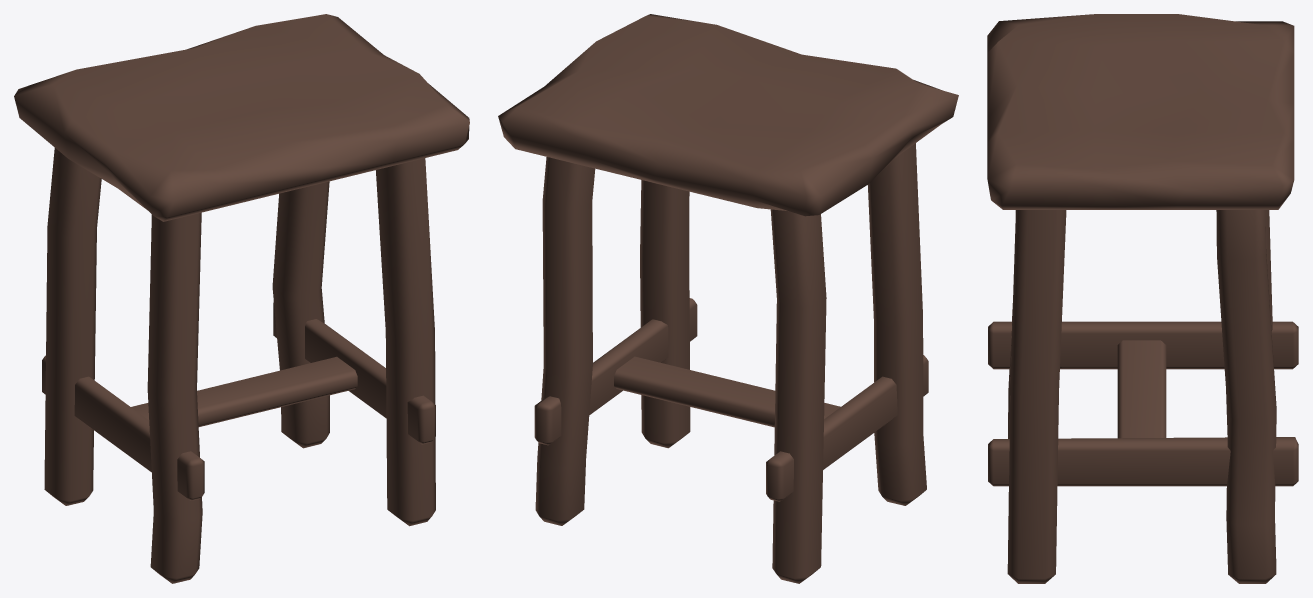
File: stool.fbx
3 views of the same model, side by side, from view 1: azimuth 30°, elevation 25°; view 2: azimuth 150°, elevation 25°; view 3: azimuth 270°, elevation 25° (orthographic). The views are drawn at different scales.
Parts seen in each view (by area): view 1: stool; view 2: stool; view 3: stool.
Part boxes in pixels (x1=…): stool: x1=14, y1=14, x2=469, y2=583; stool: x1=498, y1=14, x2=958, y2=583; stool: x1=987, y1=14, x2=1298, y2=583.
Size of the model in its own units: 43.92 by 53.5 by 35.14.
